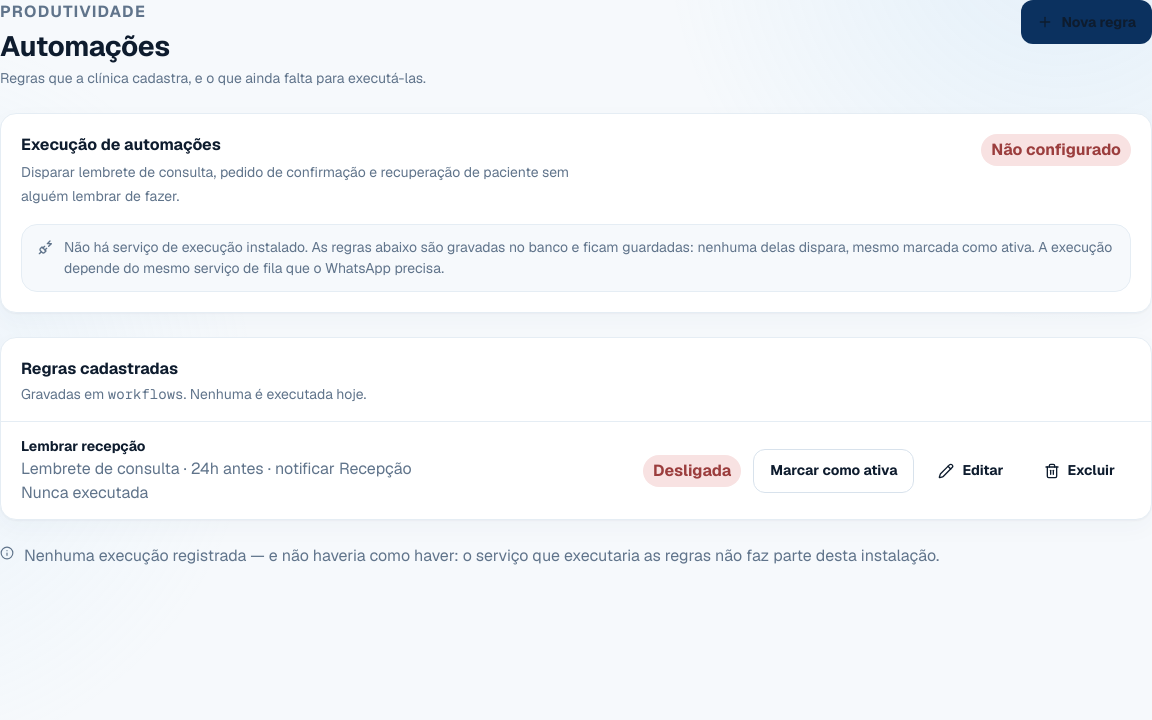
Test case: cadastro › edição carrega o que está gravado
The width and height of the screenshot is (1152, 720).
Click the button "Editar": (971, 471) [922, 449, 1020, 493]
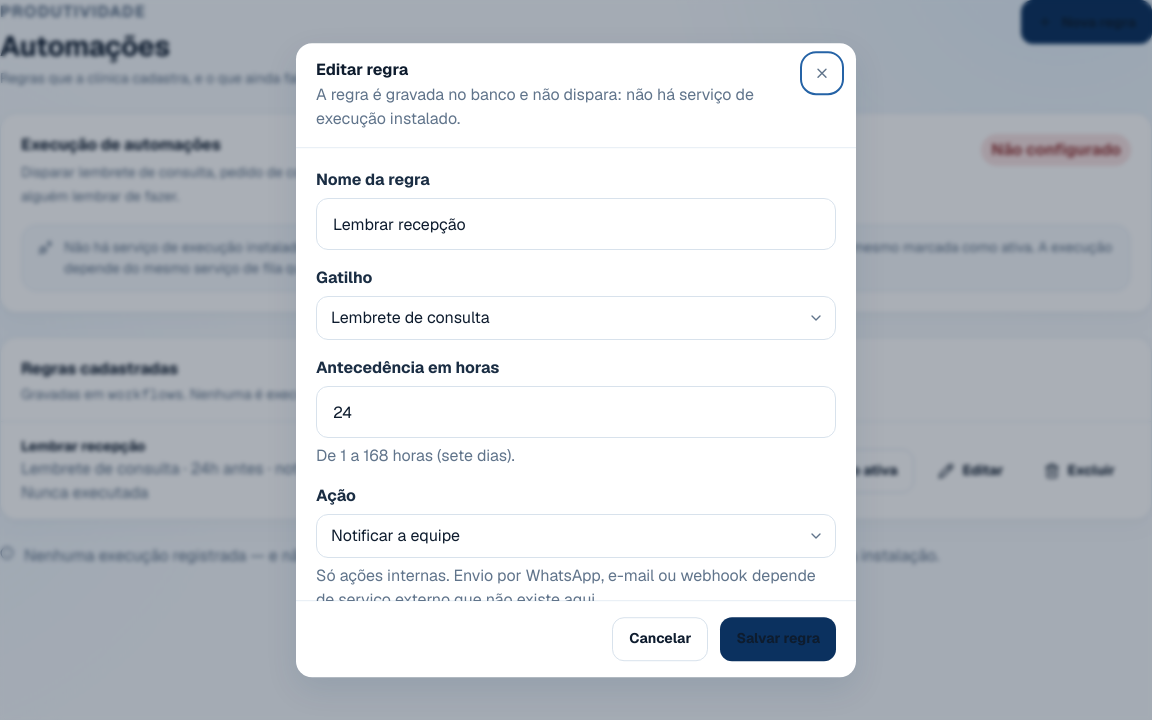
Check: the field labelled "Nome da regra" holds "Lembrar recepção", box [316, 199, 836, 251]
Check: the number field labelled "Antecedência em horas" holds "24", box [316, 387, 836, 439]
